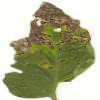Tomato Septoria leaf spot: (6, 1, 96, 99)
